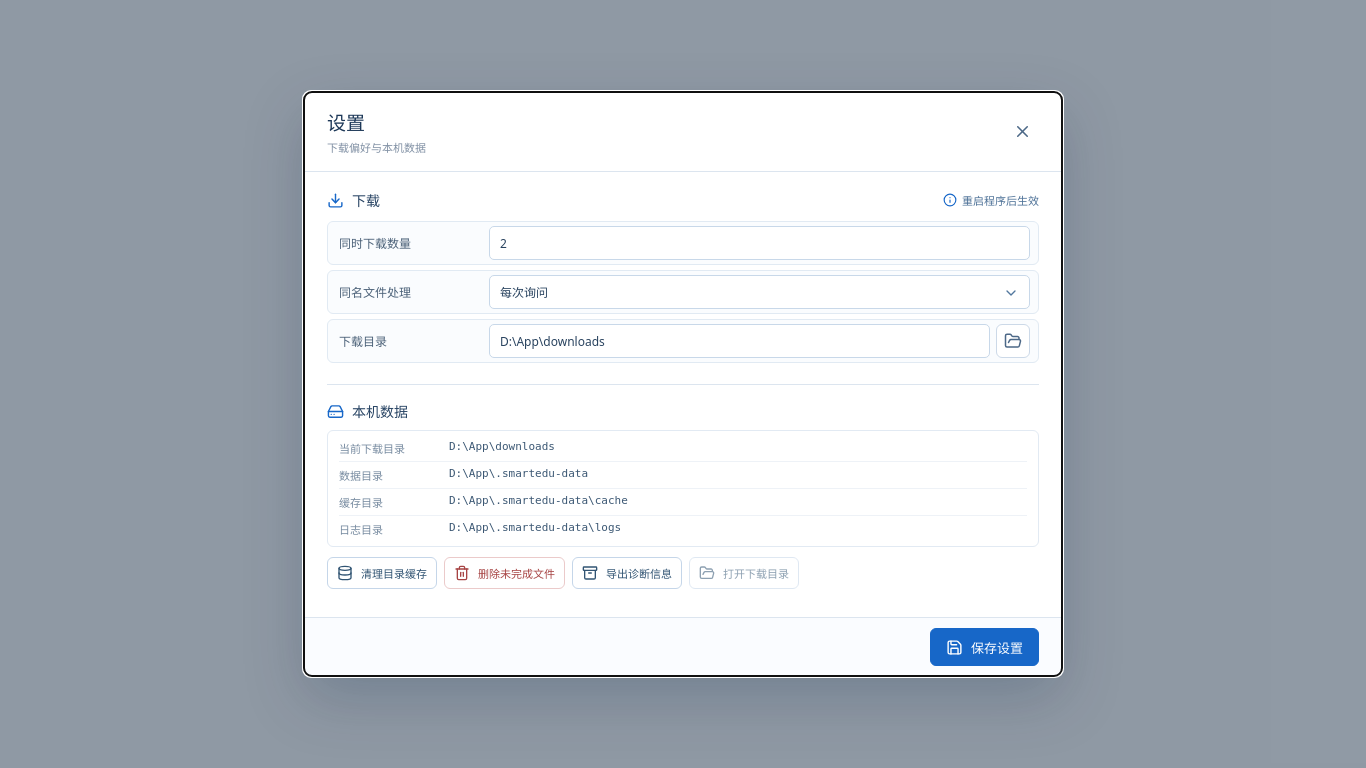
Test: keeps focus on a nested confirmation until it closes
The width and height of the screenshot is (1366, 768).
Click the button "清理目录缓存" at (382, 573), box [327,557,437,589]
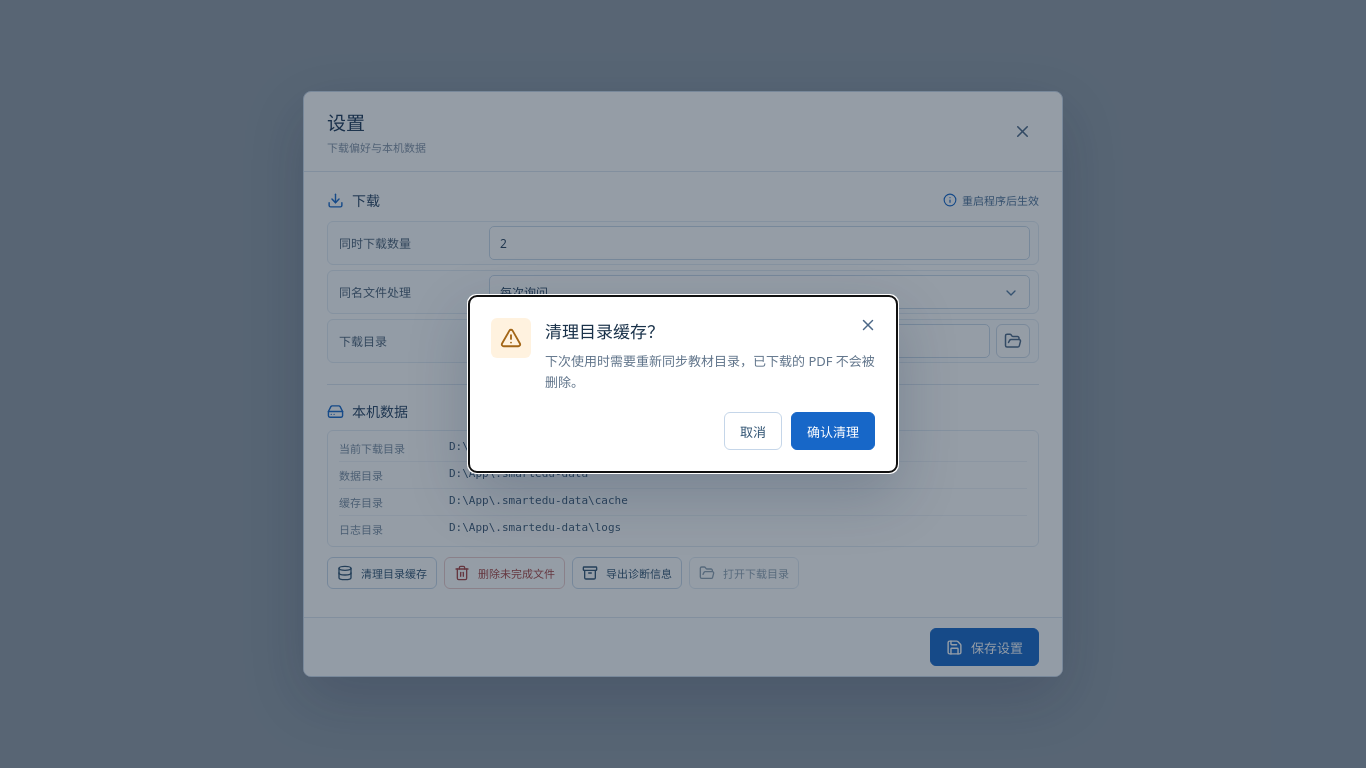
Check: the dialog "设置" has attribute inert, box [303,91,1063,677]
Press Escape
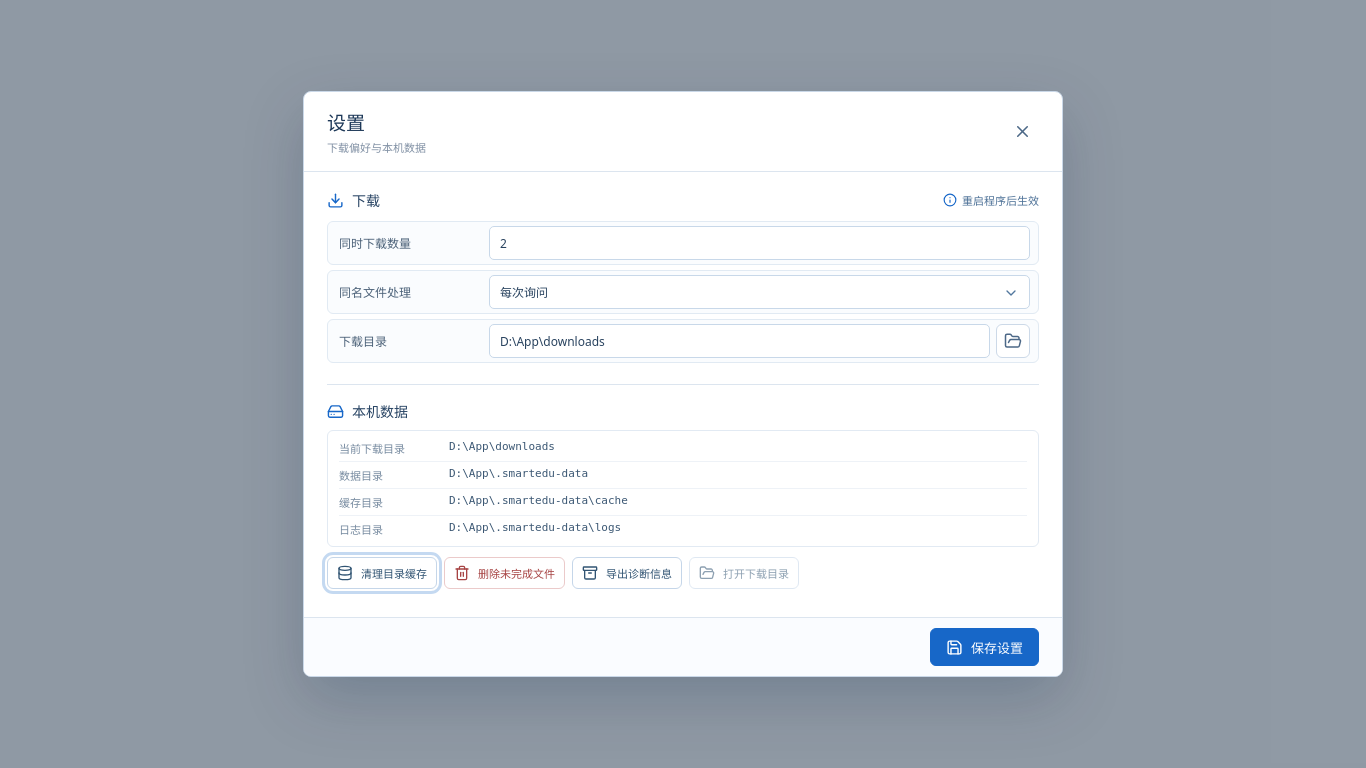
Check: the heading "清理目录缓存？" is gone
